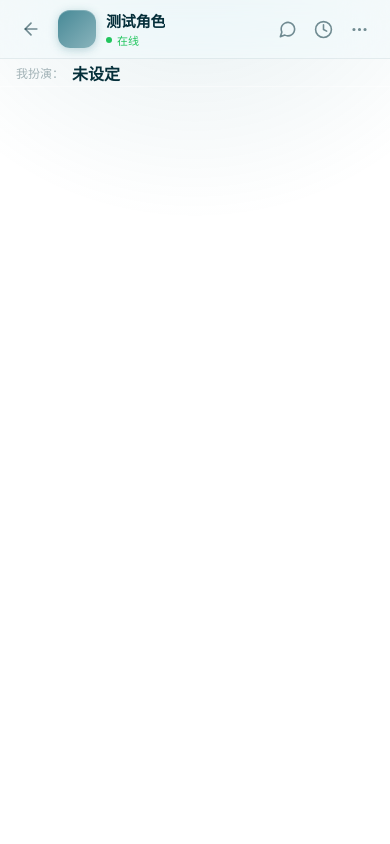
Scenario: 记忆面板：没配齐自己的 key 时给引导 › configured: true → 照旧：有「添加记忆」、无引导
The image size is (390, 844).
What coordinates should you click on to do the following:
click the button named "更多"
I would click on:
 (359, 29)
Its box is [342,12,376,46].
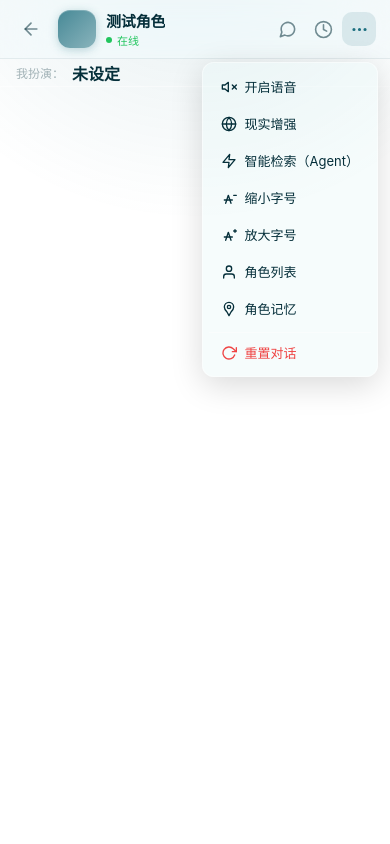
What coordinates should you click on to do the following:
click the button with class "chat-more-item" showing "角色记忆"
I would click on:
 (290, 308)
Its box is [208,291,371,326].
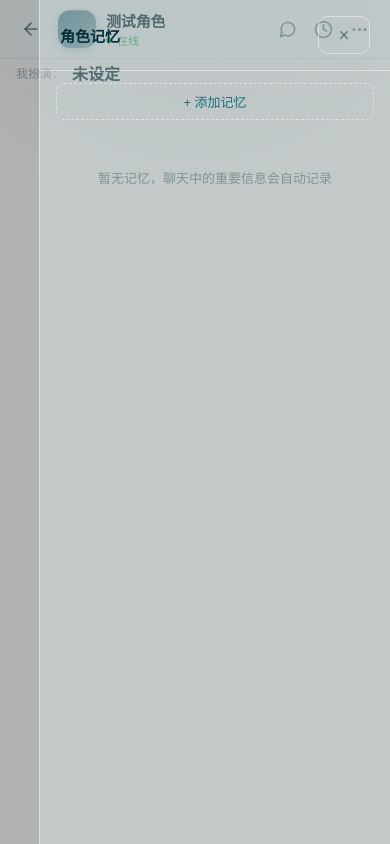
Expected: the element with class "memory-panel" is shown
Expected: the element with class "memory-panel" shows "暂无记忆", [98,170,332,186]
Expected: the button with class "memory-add-trigger" is shown, [56,83,374,120]
